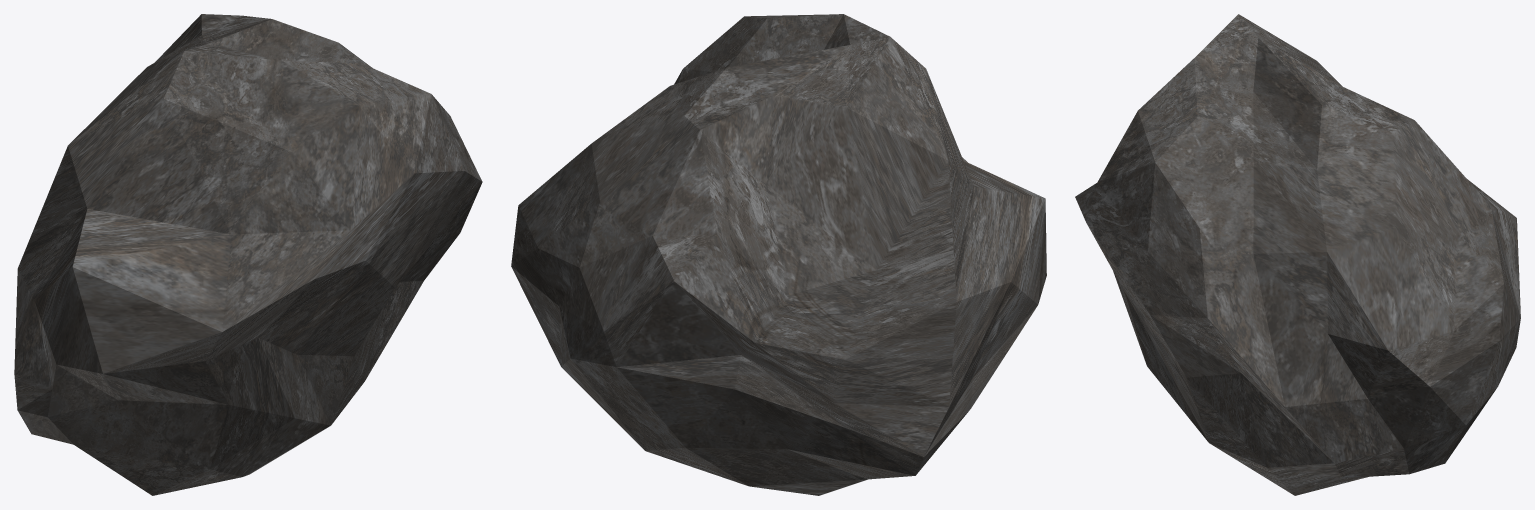
Rendered from Asteroid_05_LOD1.FBX.
3 views of the same model, side by side, from view 1: azimuth 30°, elevation 25°; view 2: azimuth 150°, elevation 25°; view 3: azimuth 270°, elevation 25° (orthographic). The views are drawn at different scales.
Visible parts, largest first — view 1: Asteriod_05_LOD1; view 2: Asteriod_05_LOD1; view 3: Asteriod_05_LOD1.
Boxes of the visible parts, x1,y1,x2,y2 form: Asteriod_05_LOD1: (14,14,482,495); Asteriod_05_LOD1: (511,14,1046,495); Asteriod_05_LOD1: (1075,14,1520,495).
Bounding box in the file's own units: 728 × 709 × 645.
1 material, 1 textured.
